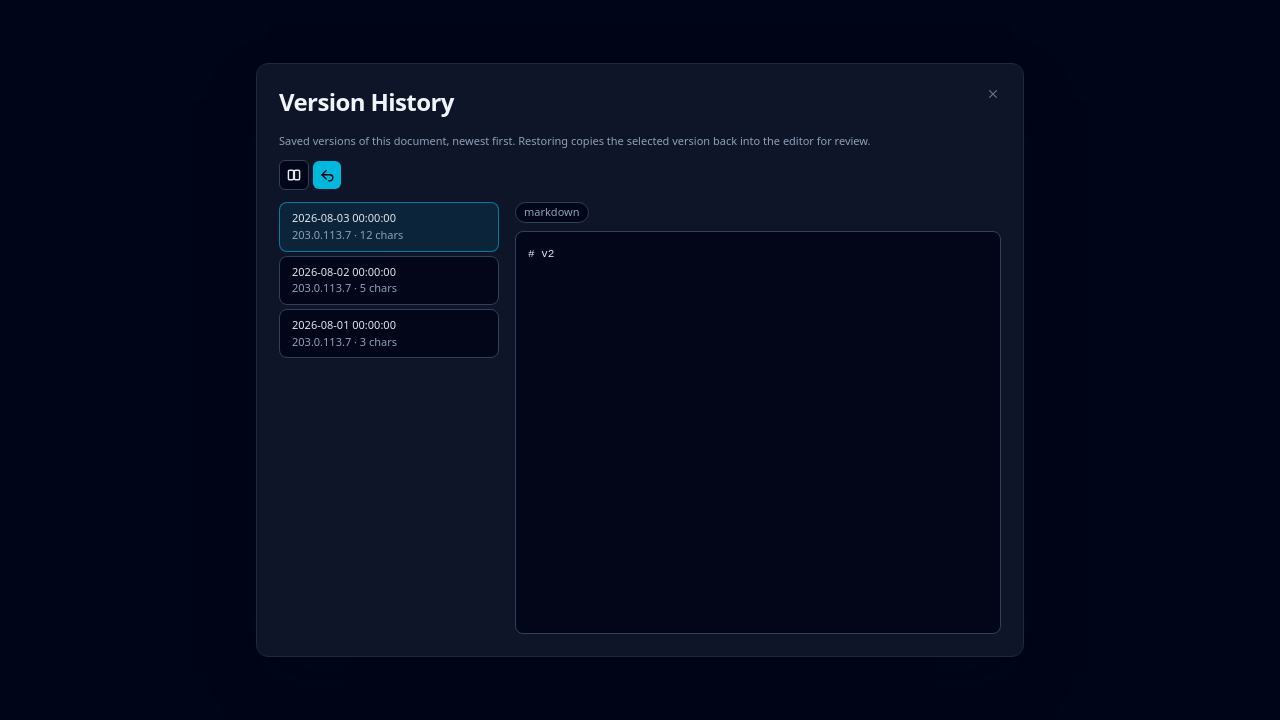
HistoryDialog › shows a side-by-side diff comparing the selected version with the current content
The width and height of the screenshot is (1280, 720).
Expected: the text "# v2" is shown, top-left (515, 231), bottom-right (1001, 634)
Click the text "203.0.113.7 · 5 chars": (345, 288) top-left (292, 280), bottom-right (397, 295)
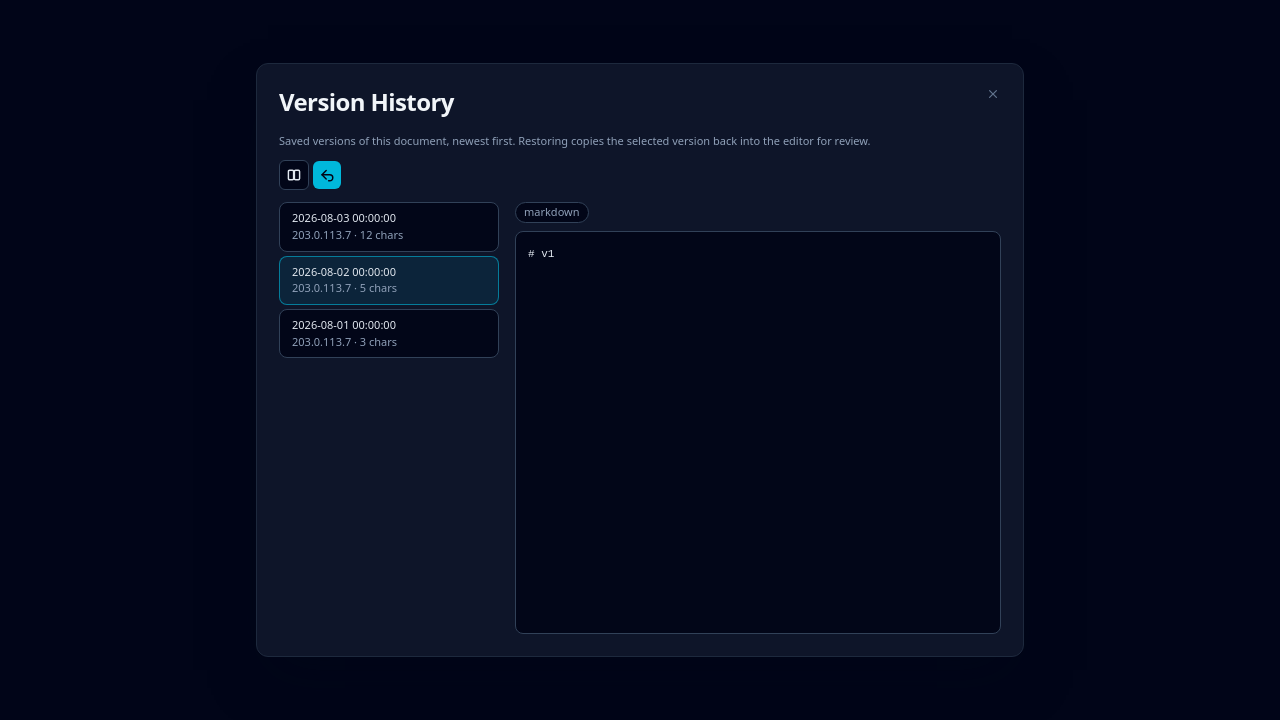
Expected: the text "# v1" is shown, top-left (515, 231), bottom-right (1001, 634)
Click the button named "Compare with current": (294, 175) top-left (279, 160), bottom-right (309, 190)
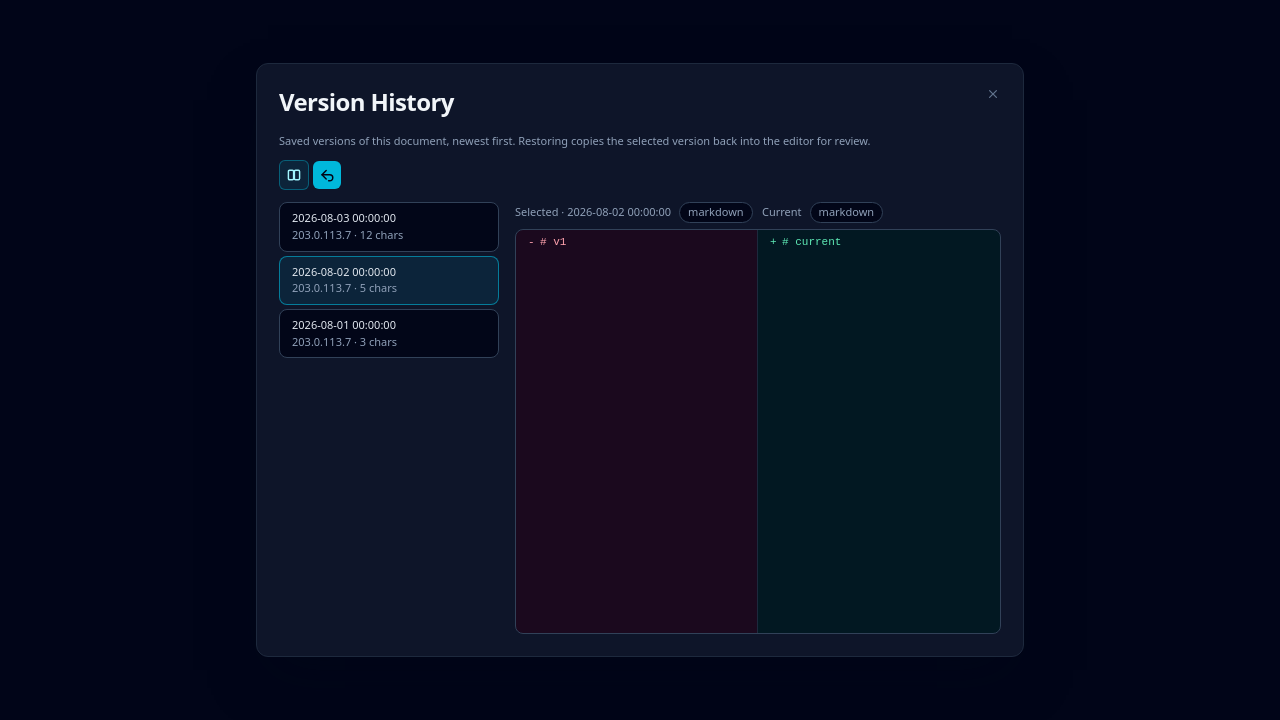
Expected: the text "# v1" is shown, top-left (540, 236), bottom-right (566, 248)
Expected: the text "# current" is shown, top-left (782, 236), bottom-right (841, 248)
